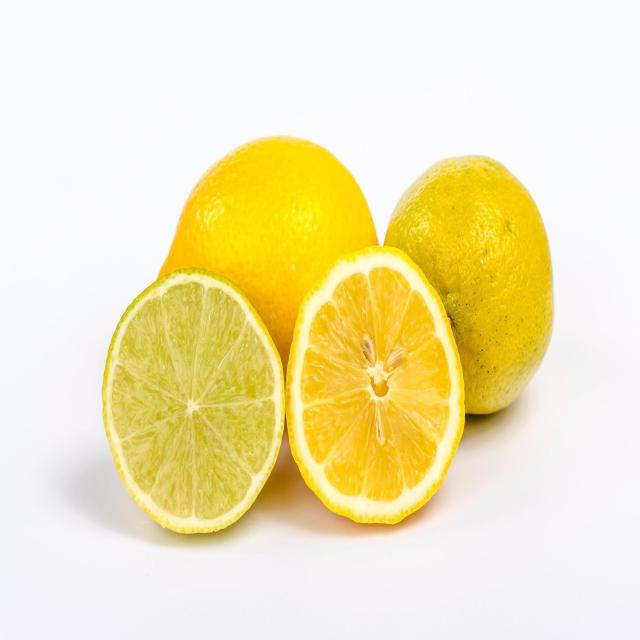lemon: (278, 234, 471, 531)
